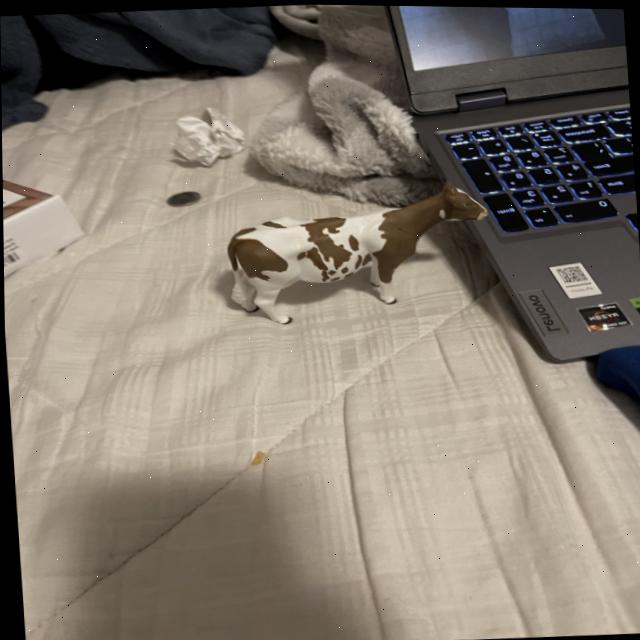cow: (217, 175, 500, 333)
